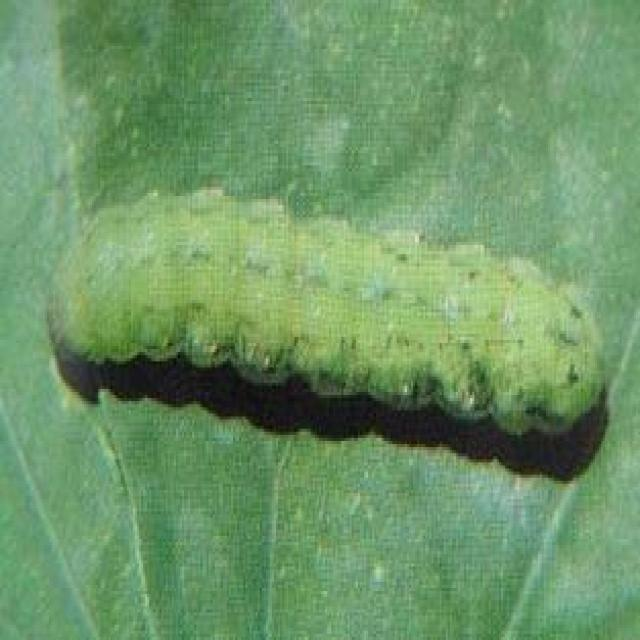BeetArmyWorm-Larva-: (19, 174, 613, 462)
